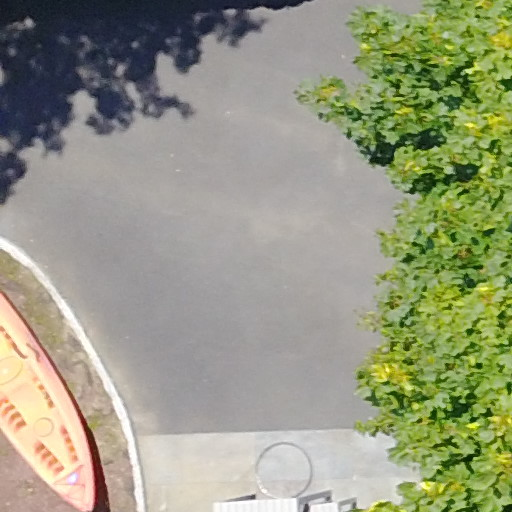kayak: (1, 244, 124, 506)
toy: (1, 247, 124, 509)
